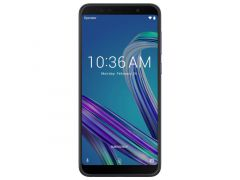Handphone: (75, 2, 165, 180)
